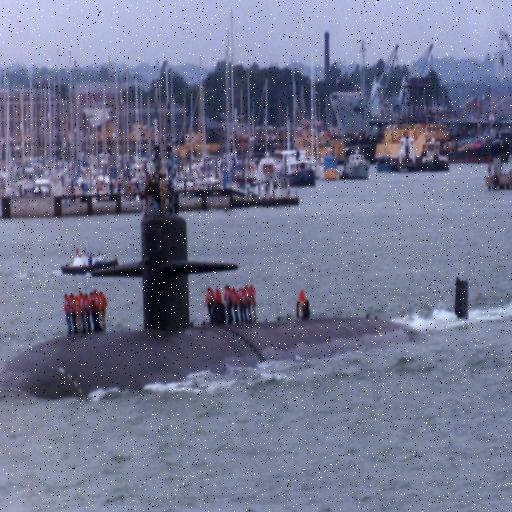submarine: (1, 215, 471, 408)
